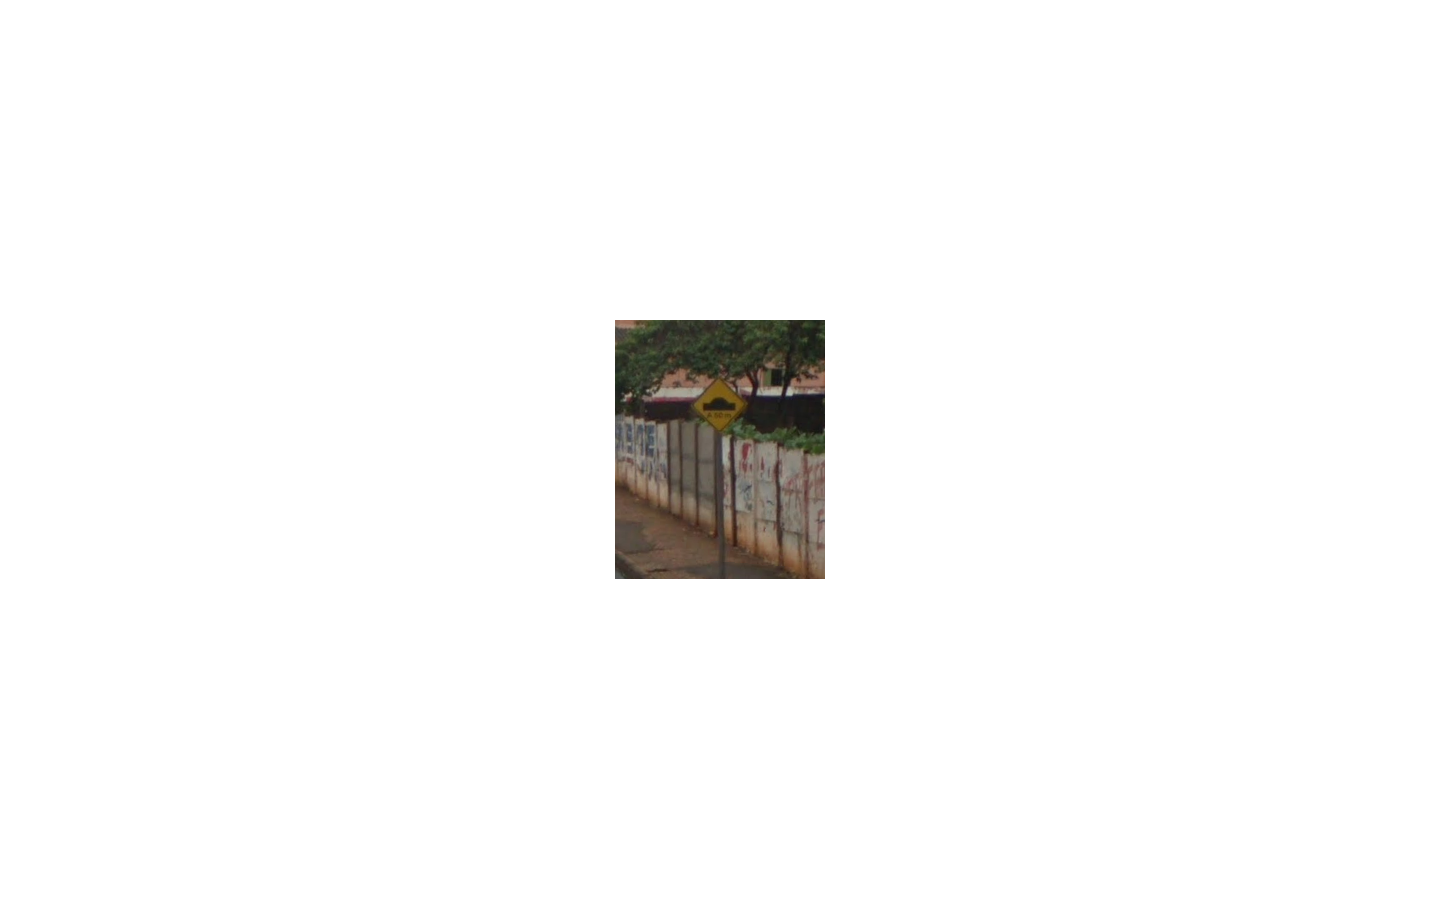l50m: (690, 375, 749, 432)
